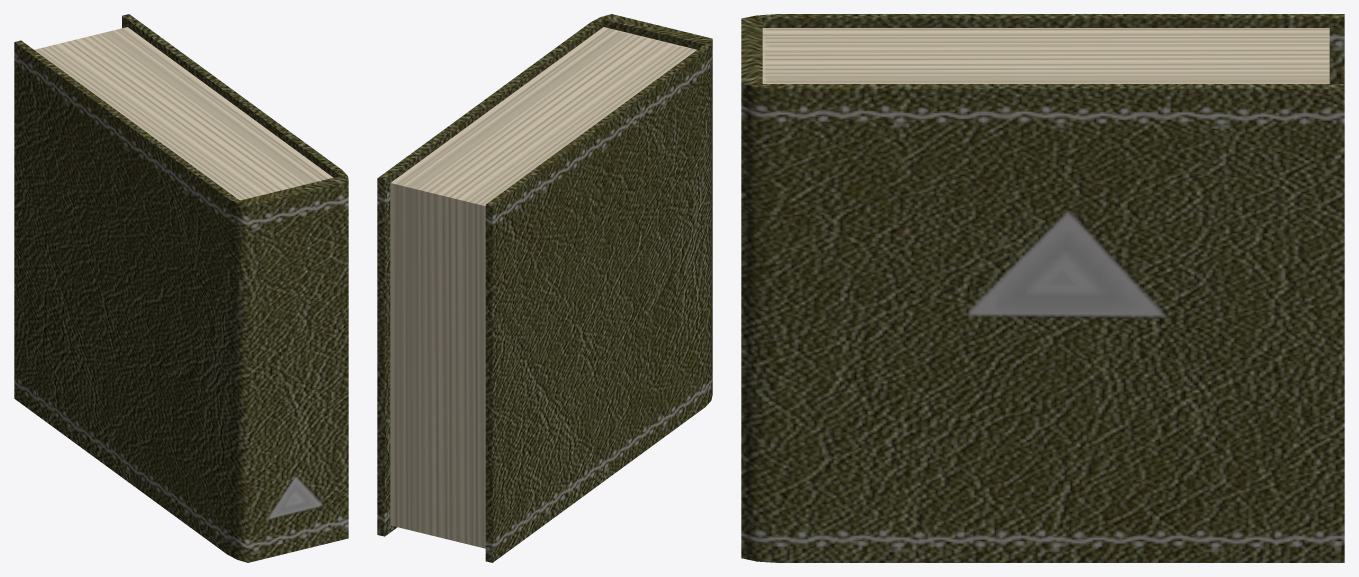
The model's file is book_green.fbx.
3 renders of one model, left to right at view 1: azimuth 30°, elevation 25°; view 2: azimuth 150°, elevation 25°; view 3: azimuth 270°, elevation 25°, orthographic. The views are drawn at different scales.
Visible parts, largest first — view 1: book_grn; view 2: book_grn; view 3: book_grn.
Boxes of the visible parts, x1,y1,x2,y2 form: book_grn: (14,14,348,562); book_grn: (377,14,712,562); book_grn: (741,14,1344,562).
Bounding box in the file's own units: 7.13 × 21.11 × 24.34.
